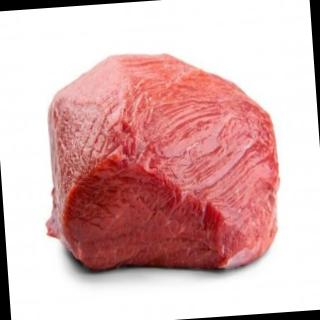Daging Sapi: (39, 48, 285, 284)
